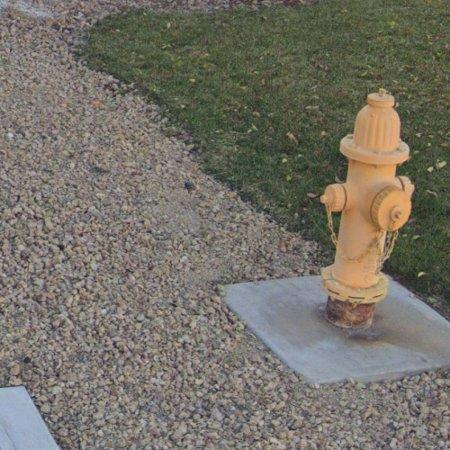a fire hydrant: (321, 89, 415, 328)
